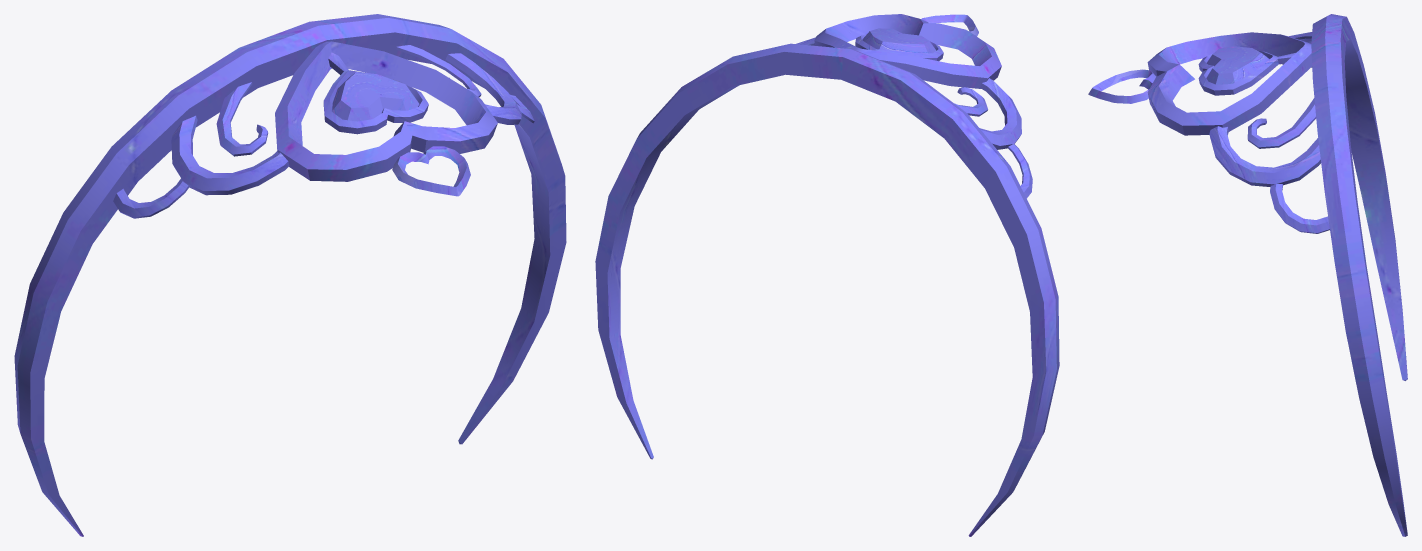
The model's file is Headwear45.glb.
3 views of the same model, side by side, from view 1: azimuth 30°, elevation 25°; view 2: azimuth 150°, elevation 25°; view 3: azimuth 270°, elevation 25° (orthographic). The views are drawn at different scales.
Visible parts, largest first — view 1: Headwear45; view 2: Headwear45; view 3: Headwear45.
Boxes of the visible parts, x1,y1,x2,y2 form: Headwear45: [14, 14, 566, 536]; Headwear45: [595, 14, 1059, 536]; Headwear45: [1088, 14, 1407, 536].
Bounding box in the file's own units: 1.91 × 1.67 × 1.15.
1 material, 1 textured.
